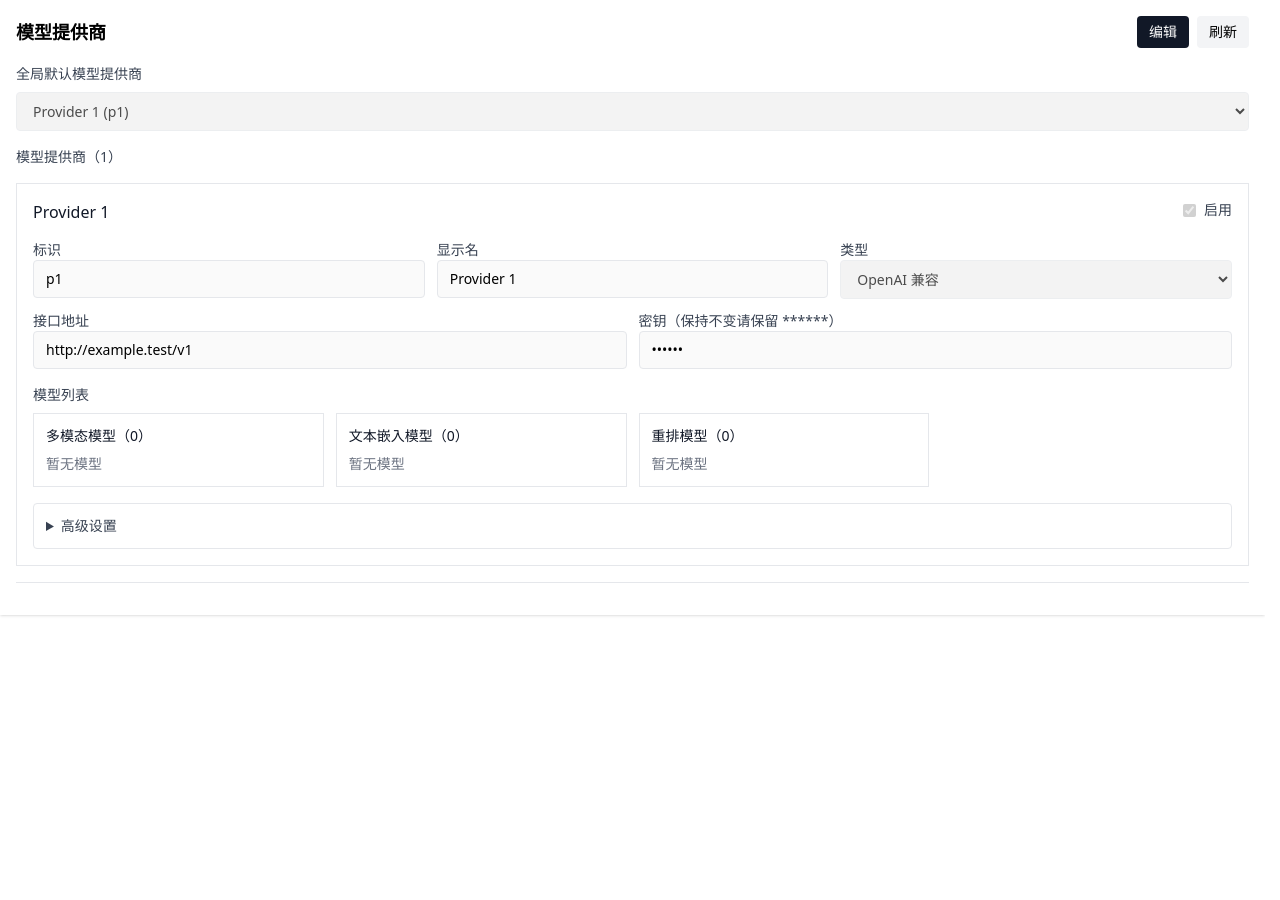
AiProvidersForm › shows fetched upstream models in multimodal modal without applying an invalid default capability filter
Click the button "编辑". click: coordinates (1163, 32)
box: [1137,16,1189,48]
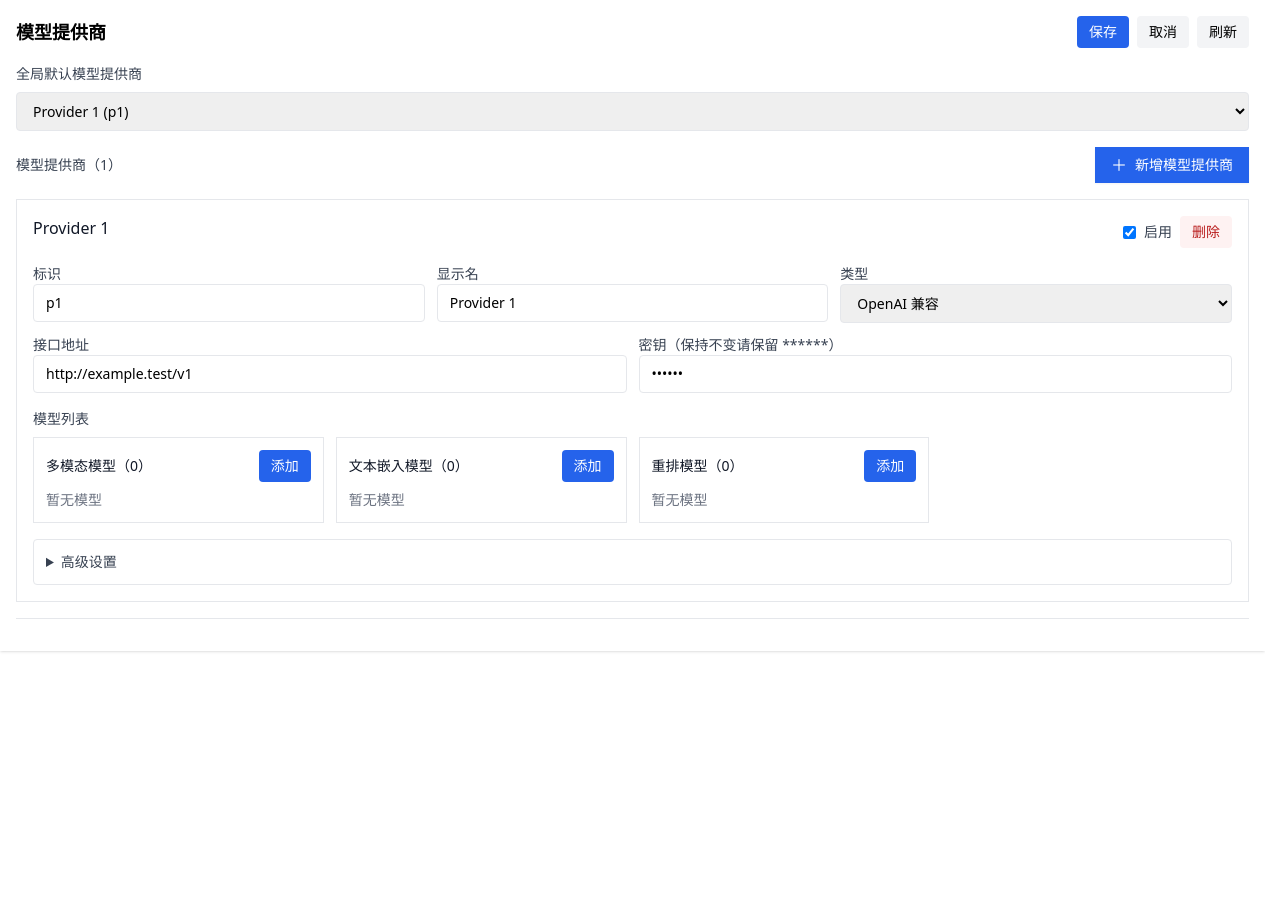
Click the button "添加" in the row of "多模态模型". click: coordinates (285, 466)
box: [259,450,311,482]
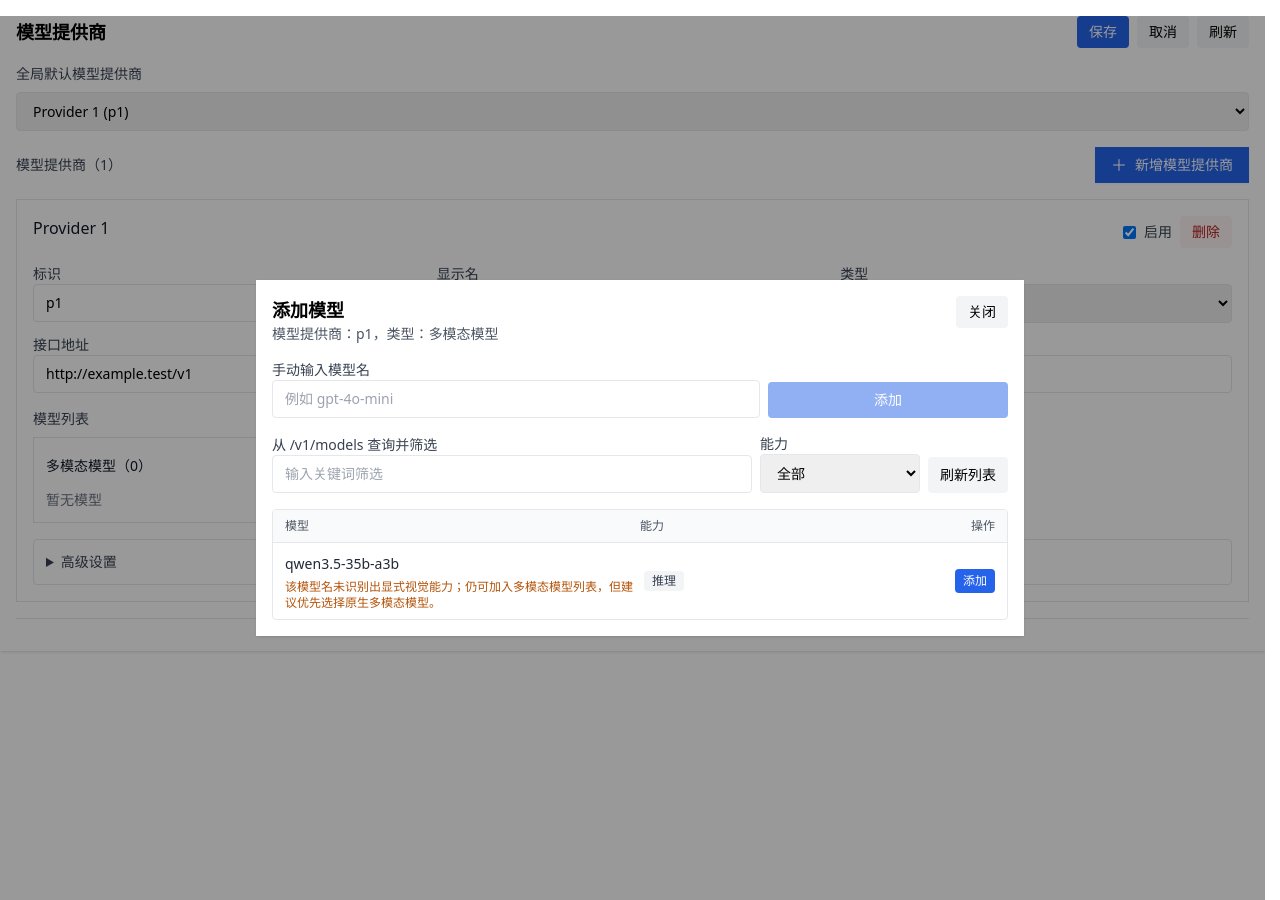
Now the button "qwen3.5-35b-a3b" is shown, box [285,554,636,574]
